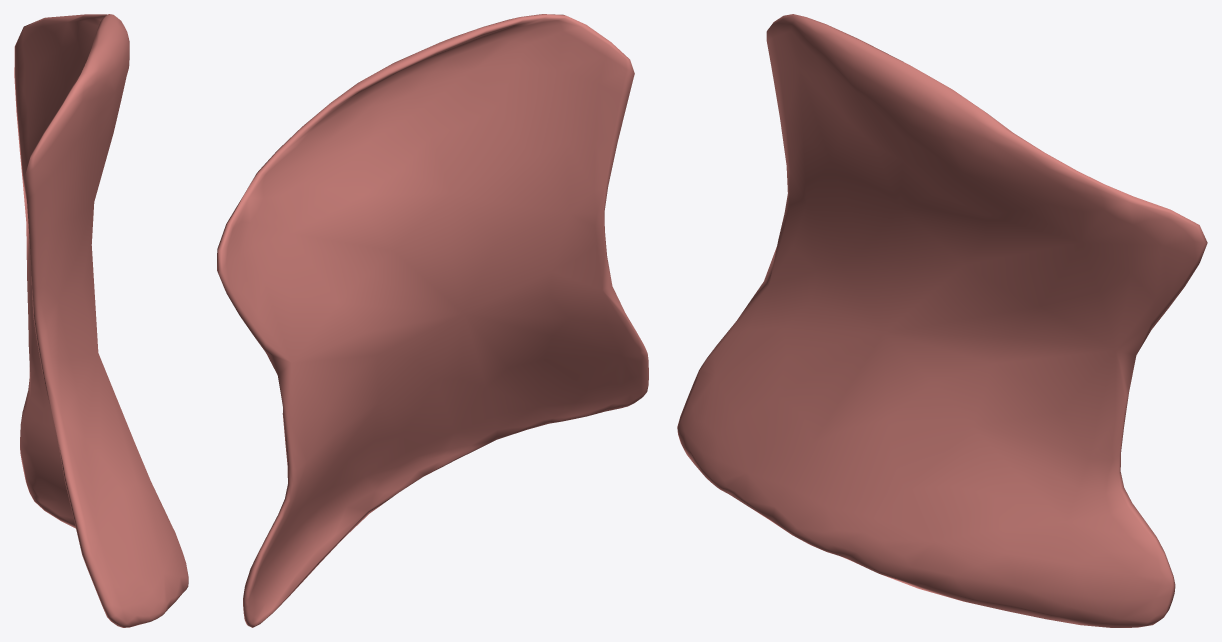
3 views of the same model, side by side, from view 1: azimuth 30°, elevation 25°; view 2: azimuth 150°, elevation 25°; view 3: azimuth 270°, elevation 25° (orthographic). The views are drawn at different scales.
Parts seen in each view (by area): view 1: ZA_20128f7399682ff6; view 2: ZA_20128f7399682ff6; view 3: ZA_20128f7399682ff6.
Part boxes in pixels (left/top/right/bottom): ZA_20128f7399682ff6: left=14, top=14, right=188, bottom=627; ZA_20128f7399682ff6: left=217, top=14, right=648, bottom=627; ZA_20128f7399682ff6: left=677, top=14, right=1207, bottom=627.
Size of the model in its own units: 0.0134 by 0.0309 by 0.0273.
